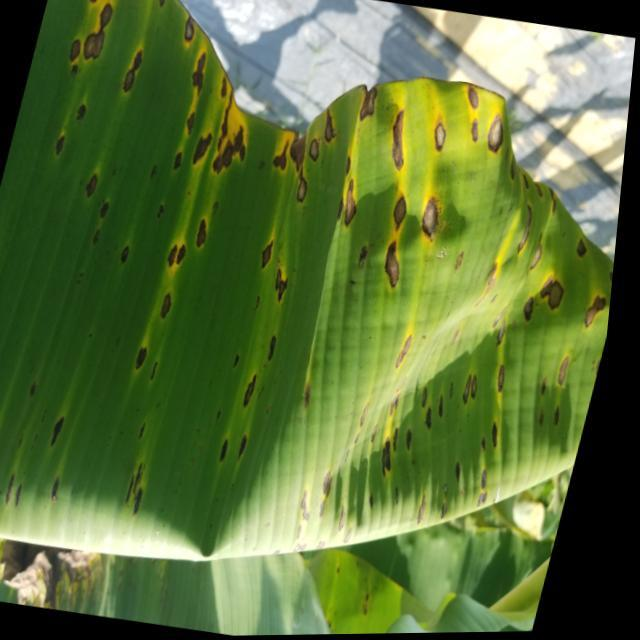Early_rust: (0, 0, 620, 551)
